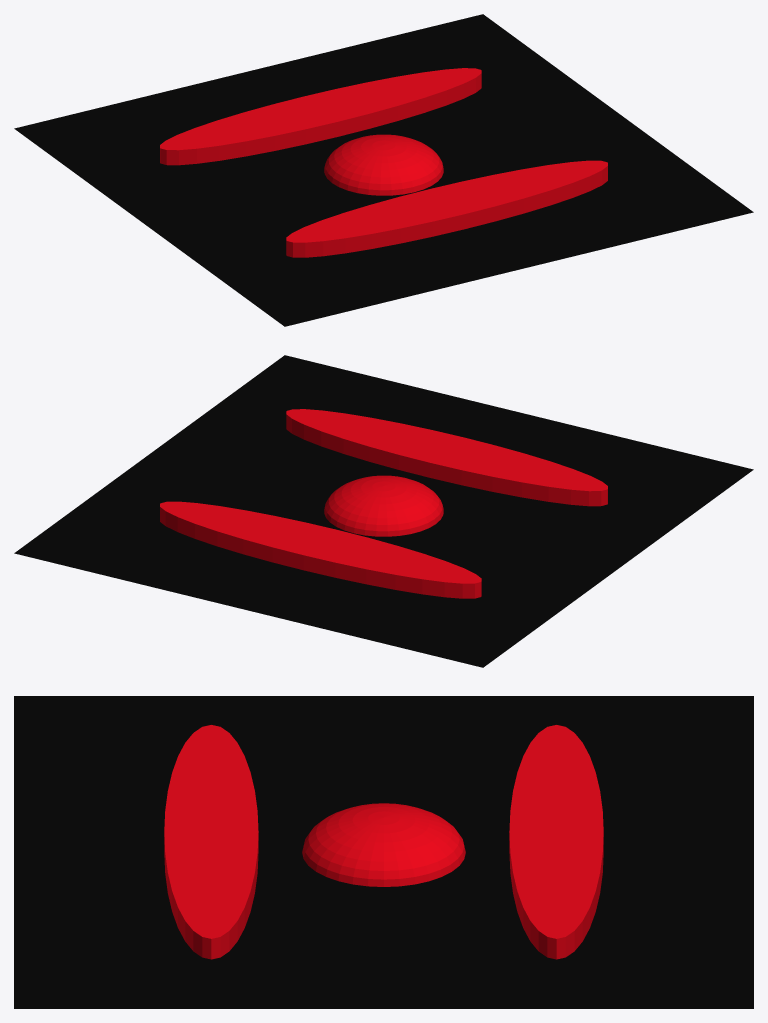
The model's file is Figura6.fbx.
3 renders of one model, top to bottom at view 1: azimuth 30°, elevation 25°; view 2: azimuth 150°, elevation 25°; view 3: azimuth 270°, elevation 25°, orthographic. The views are drawn at different scales.
Parts seen in each view (by area): view 1: Cylinder.001; view 2: Cylinder.001; view 3: Cylinder.001.
Boxes of the visible parts, box(x1,y1,x2,y2) form: Cylinder.001: box(14, 14, 753, 326); Cylinder.001: box(14, 355, 753, 667); Cylinder.001: box(14, 696, 753, 1008).
Size of the model in its own units: 292 by 30.47 by 292.
